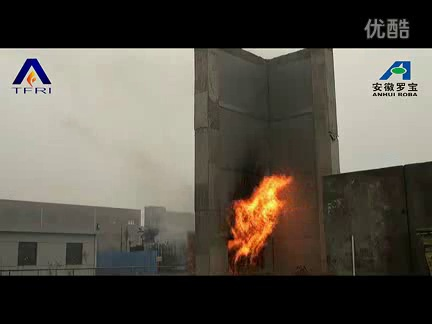fire: (222, 170, 293, 264)
